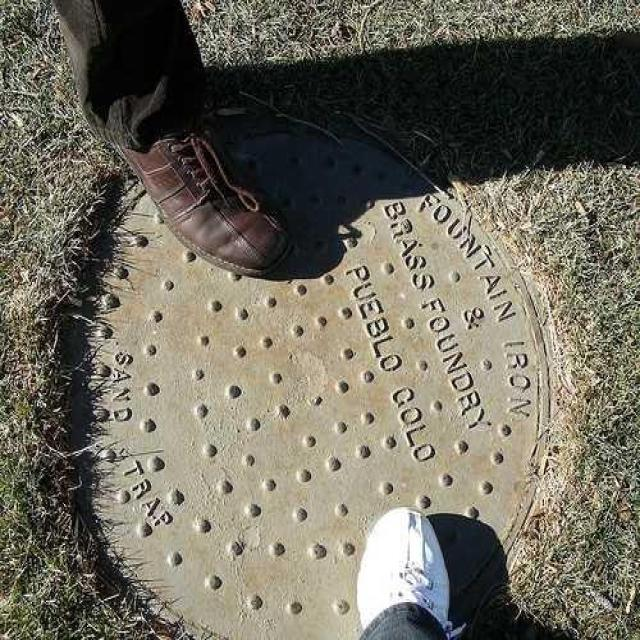manhole: (72, 102, 552, 640)
